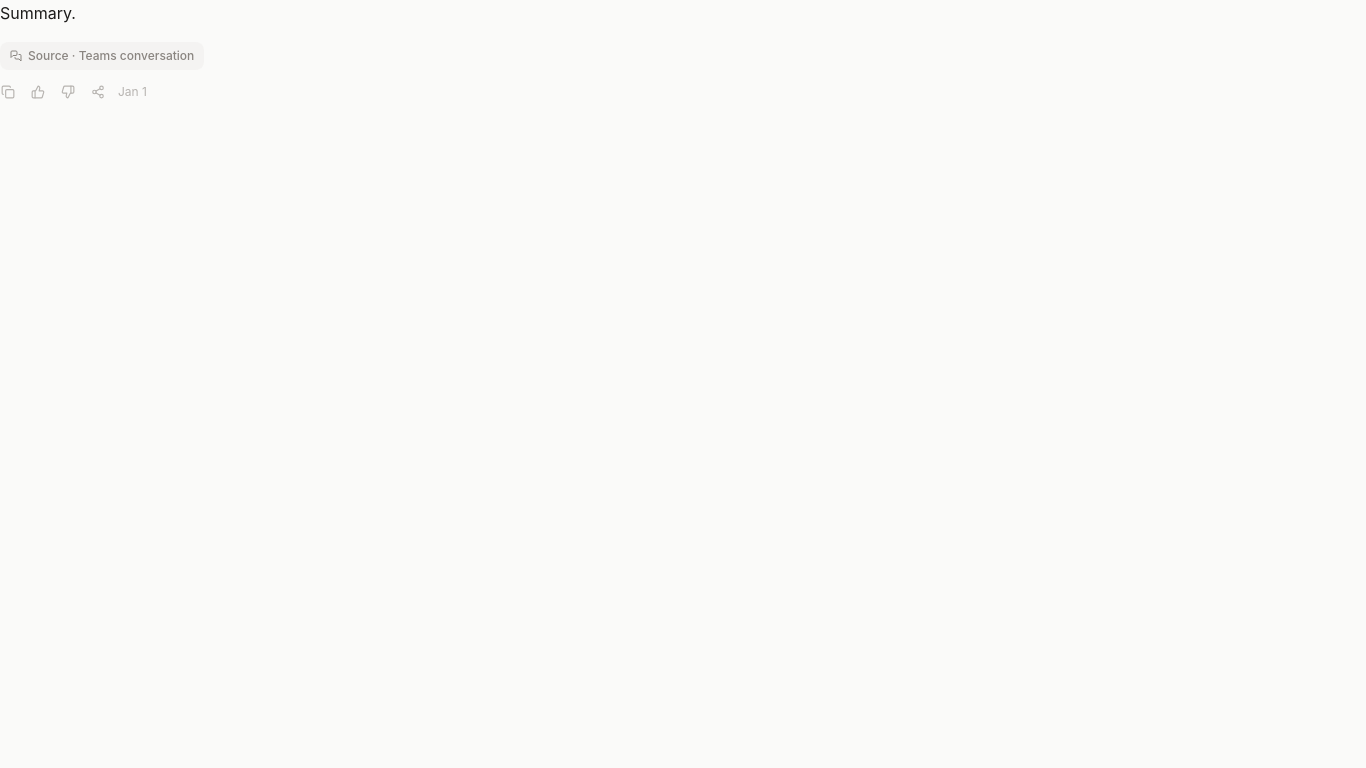
Scenario: Message — source chip layout alignment (Runtime Activity Truthfulness + Source Chip Alignment corrective pass) › (H) Teams source chip click/drawer behavior is unaffected by the layout correction
Click the button "Source · Teams conversation" at (102,56), box [0,42,204,70]
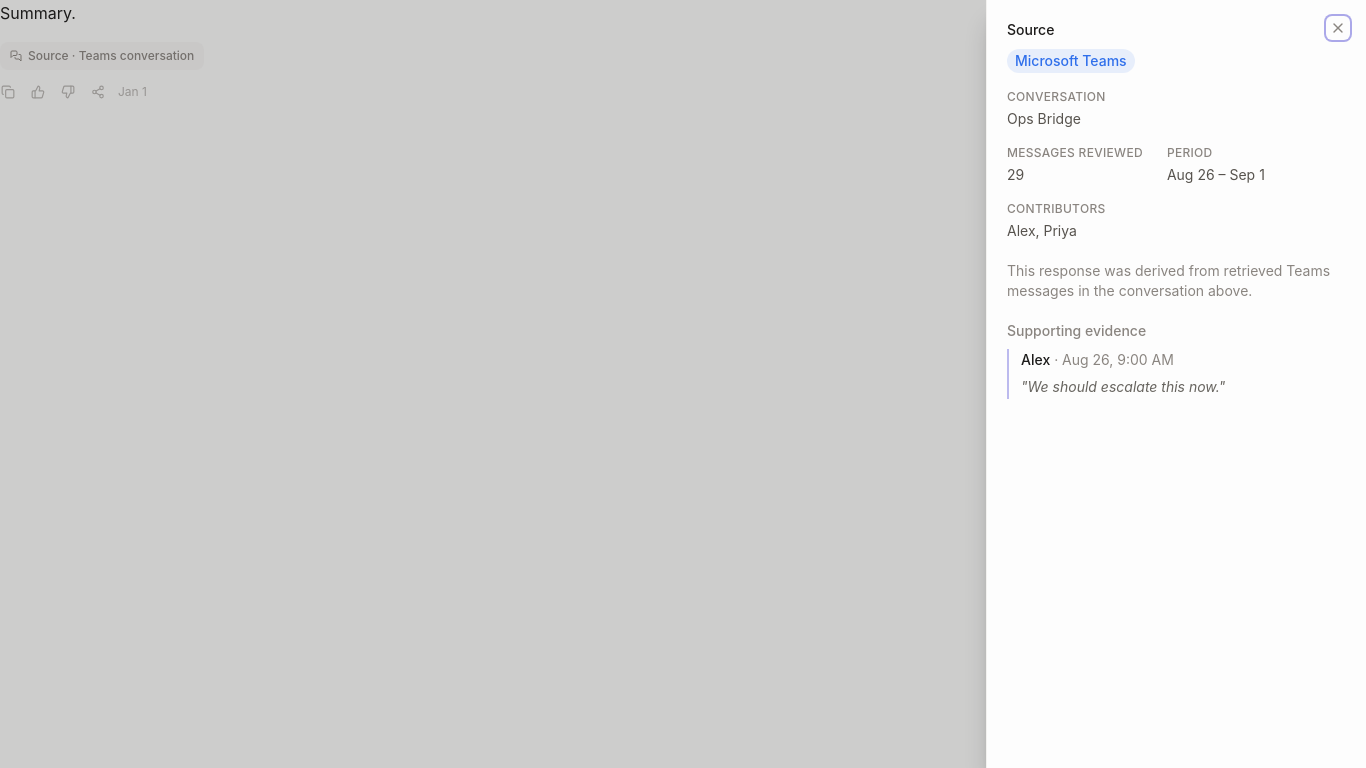
Check: the text "Microsoft Teams" is shown, box [1007,49,1135,73]
Check: the text "Ops Bridge" is shown, box [1007,110,1081,127]
